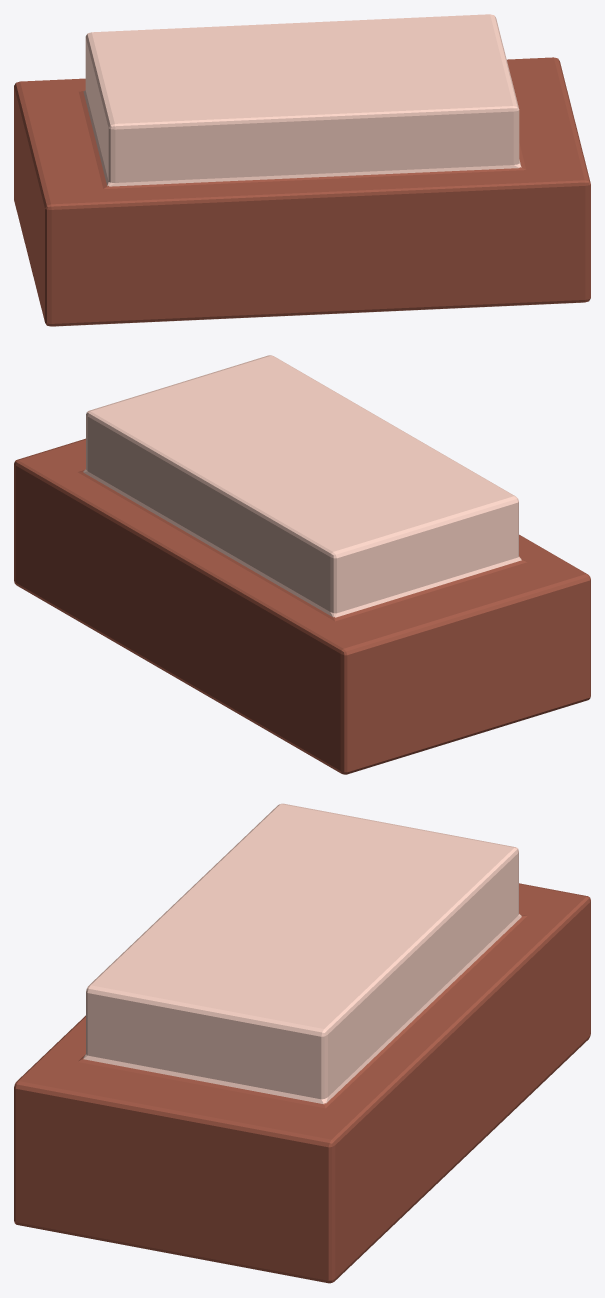
Rendered from item-stand5.fbx.
3 views of the same model, one above another, from view 1: azimuth 30°, elevation 25°; view 2: azimuth 150°, elevation 25°; view 3: azimuth 270°, elevation 25° (orthographic). The views are drawn at different scales.
Parts seen in each view (by area): view 1: Cube.006; view 2: Cube.006; view 3: Cube.006.
Boxes of the visible parts, <box> form: Cube.006: <box>14,14,590,326</box>; Cube.006: <box>14,355,590,774</box>; Cube.006: <box>14,803,590,1283</box>.
Bounding box in the file's own units: 907 × 297 × 721.
